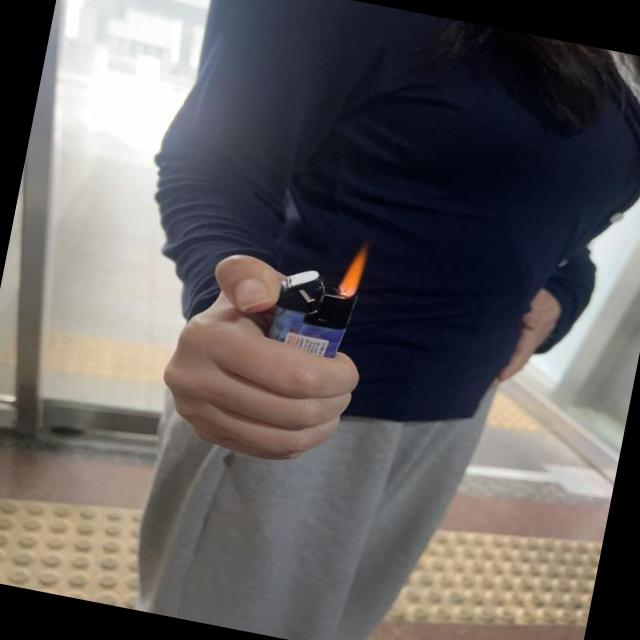Fire: (338, 240, 370, 300)
